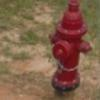a fire hydrant: (50, 0, 92, 91)
